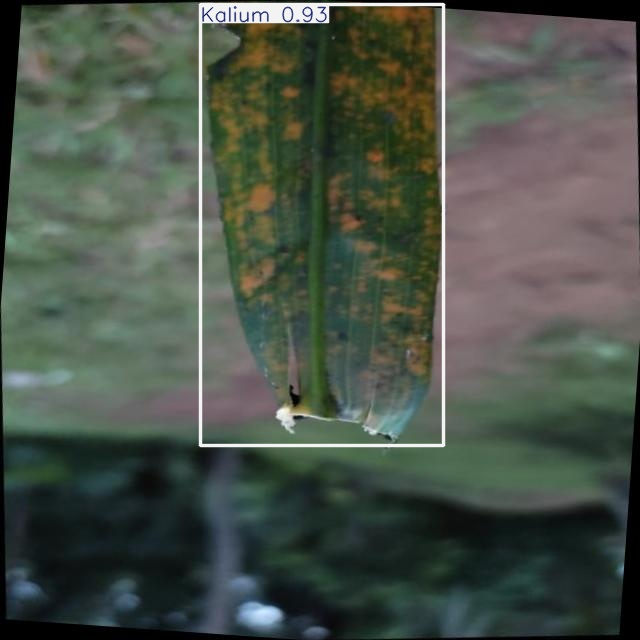Kalium: (201, 4, 444, 446)
